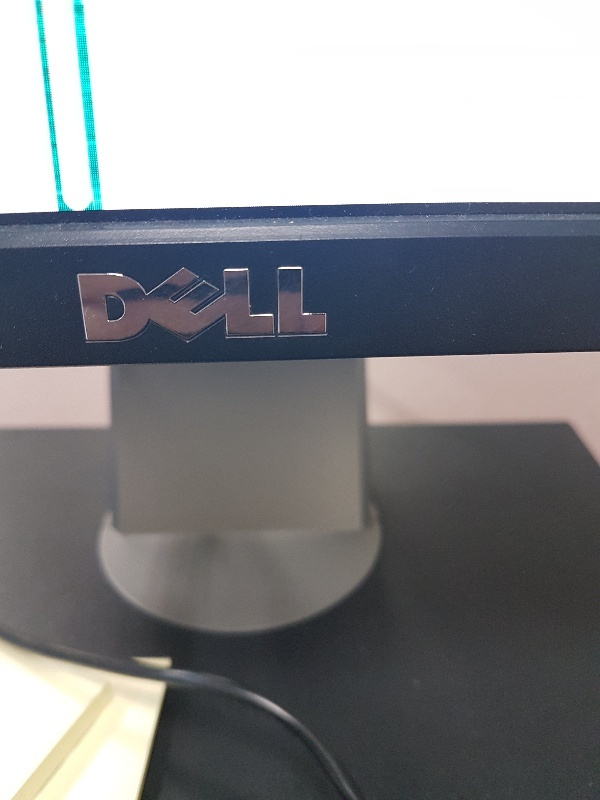text: (81, 266, 96, 344), (97, 266, 112, 344), (113, 266, 128, 344), (129, 266, 144, 344), (145, 266, 160, 344), (161, 266, 176, 344), (177, 266, 192, 344), (193, 266, 208, 344), (209, 266, 224, 344), (225, 266, 240, 344), (241, 266, 256, 344), (257, 266, 272, 344), (273, 266, 288, 344), (289, 266, 304, 344), (305, 266, 320, 344), (321, 266, 328, 344), (77, 266, 80, 344)
